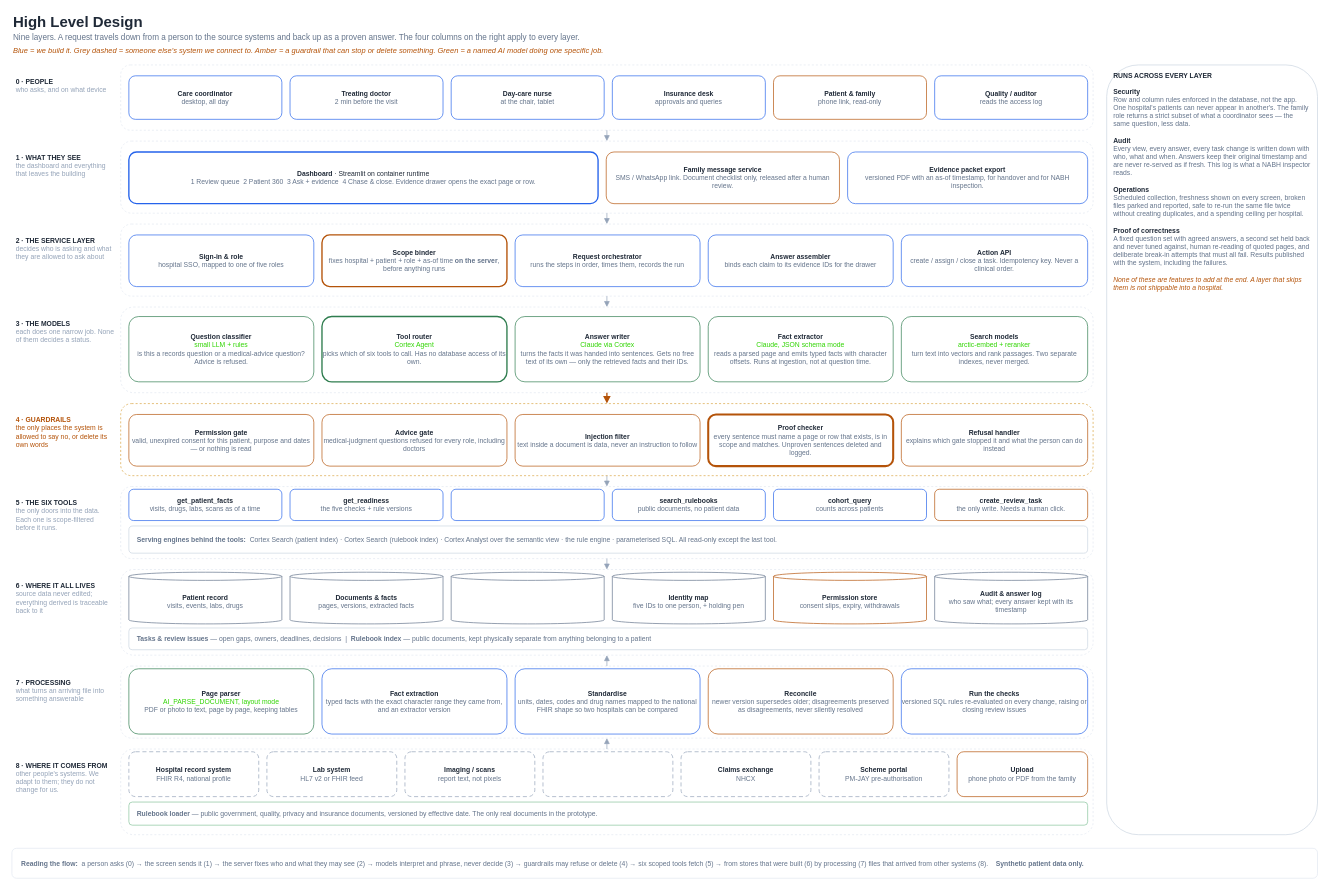
This 1329x890 diagram has some shape labels left out. The centre of each missing label's shape, as x and y in pixels:
"Money & coverage approvals, claims, rejections" goes at pixel 527 598.
"National health network ABHA ID, Consent Manager, other hospitals" goes at pixel 607 774.
"search_patient_docs this patient's pages only" goes at pixel 527 505.
